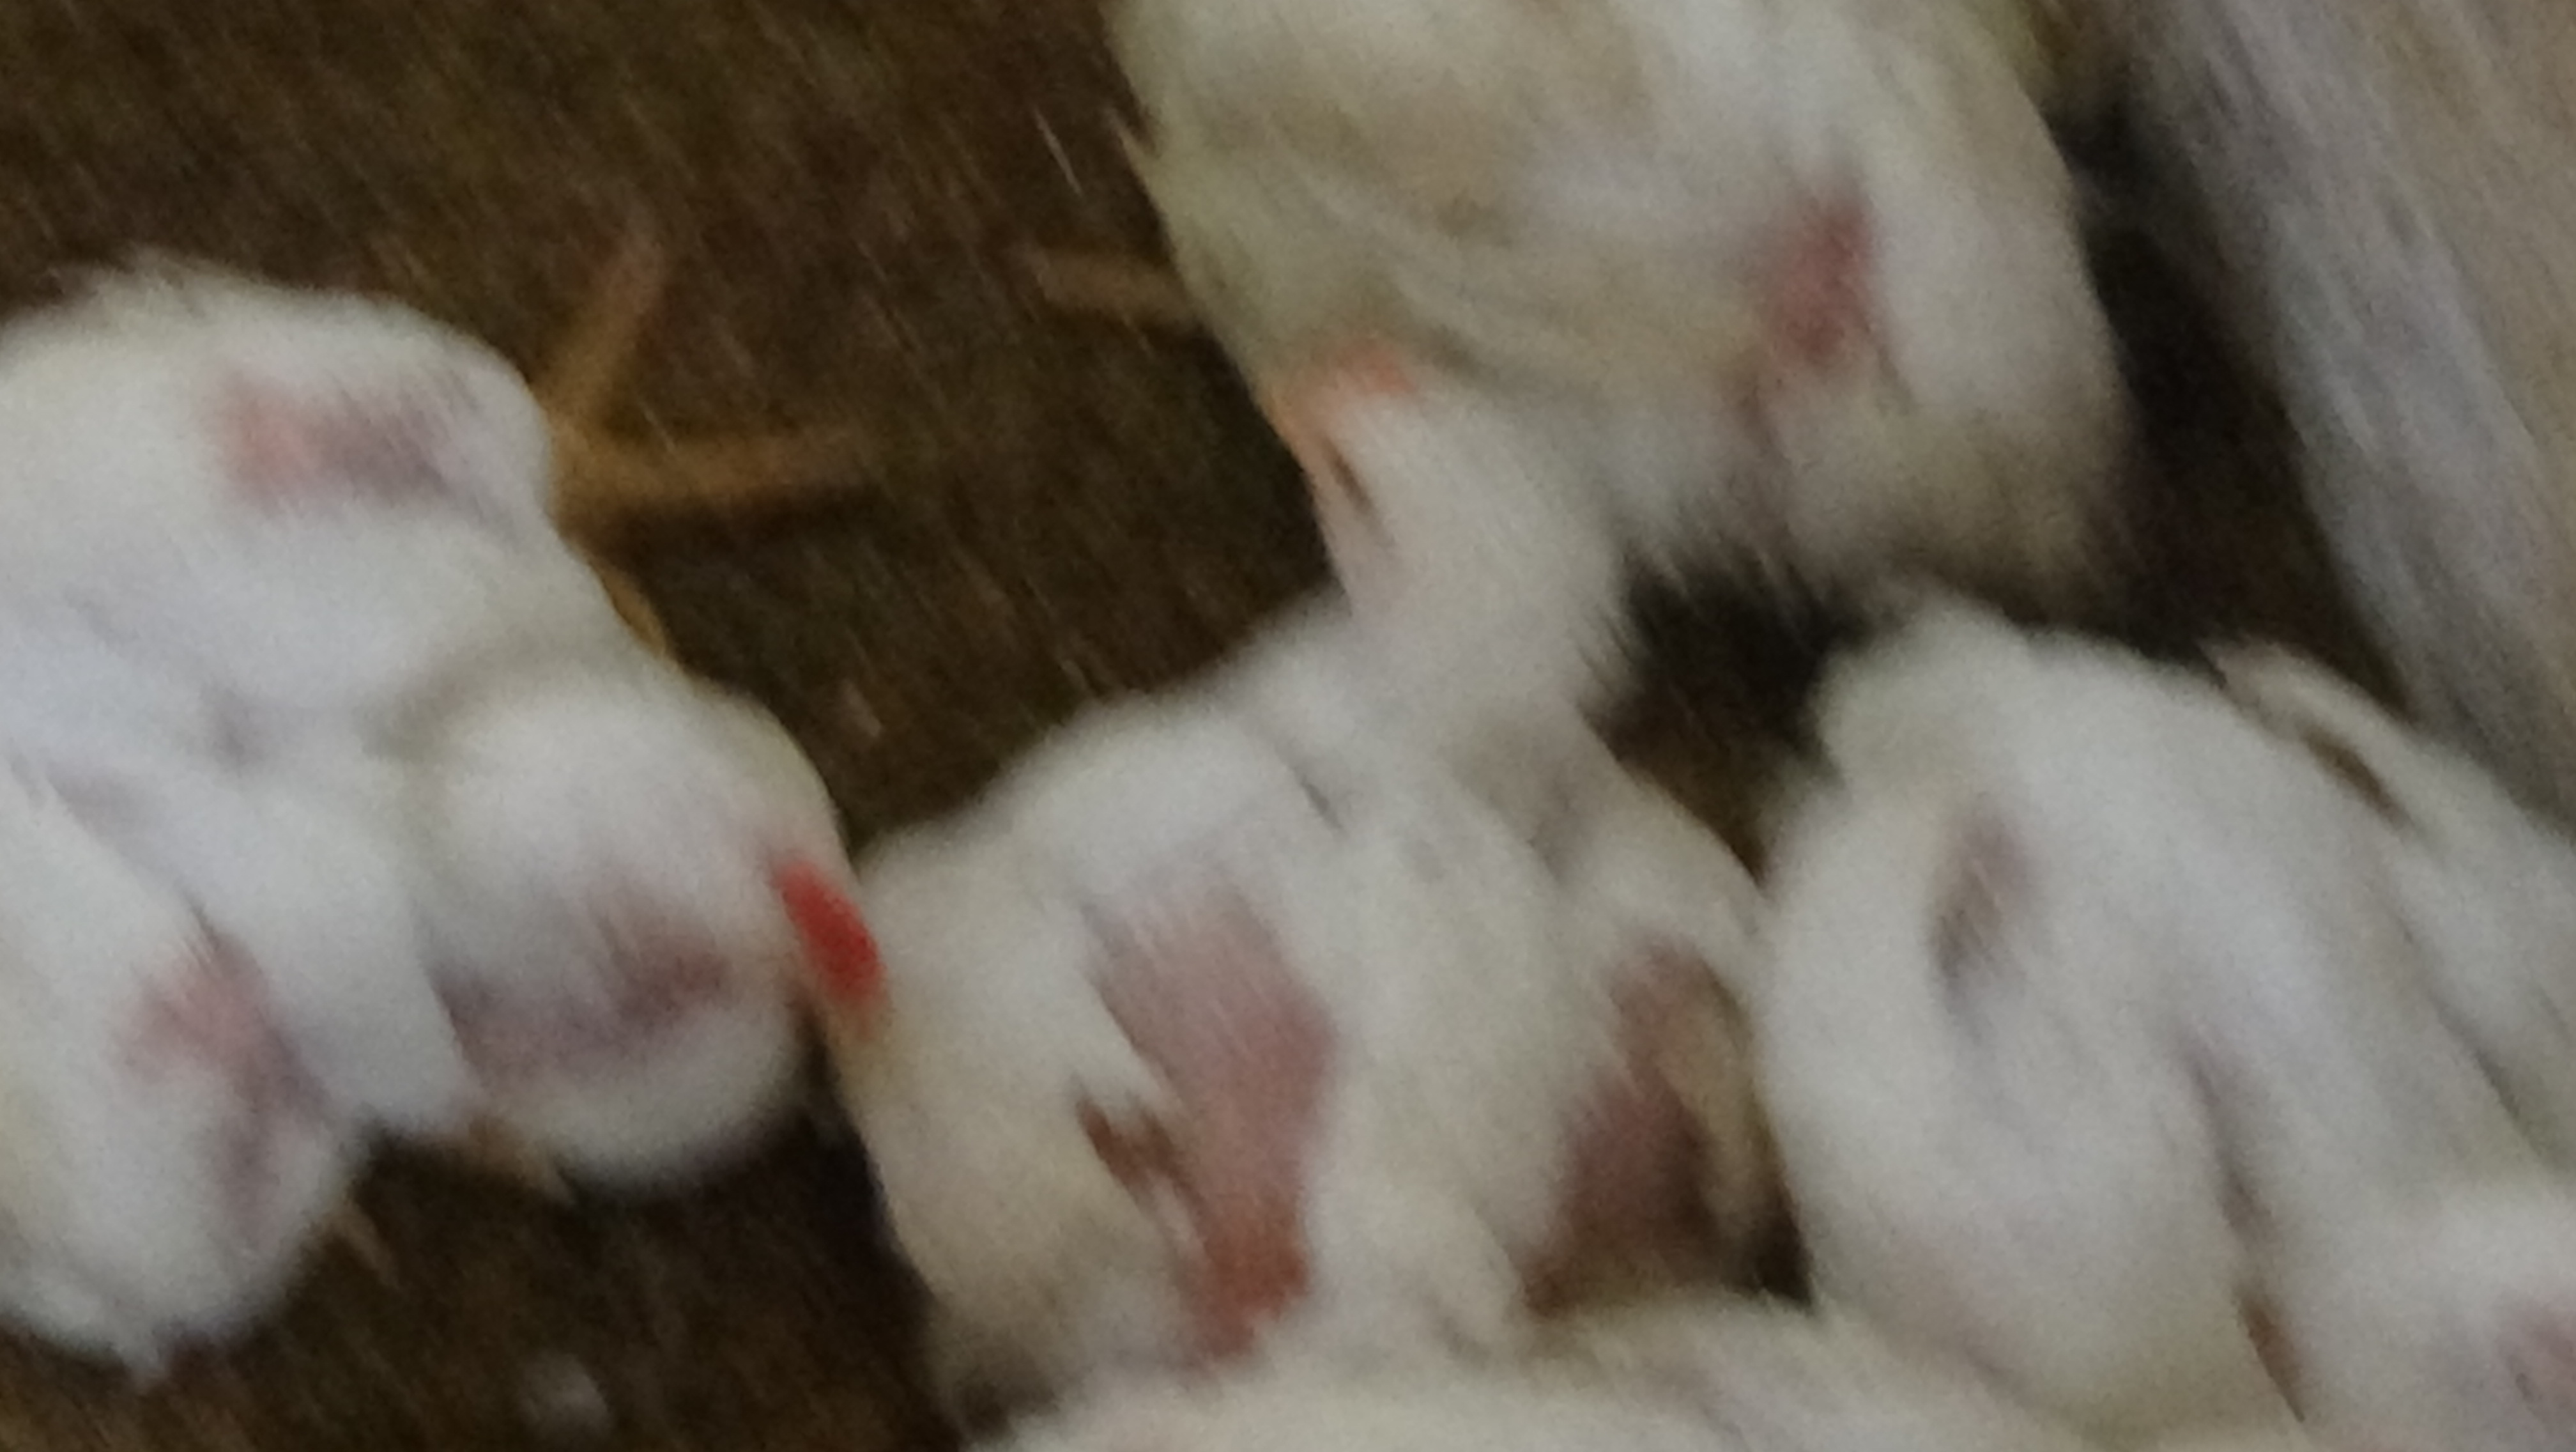Pollos: (791, 289, 1792, 1385), (0, 179, 890, 1342), (1088, 0, 2222, 696), (1757, 522, 2576, 1452)
